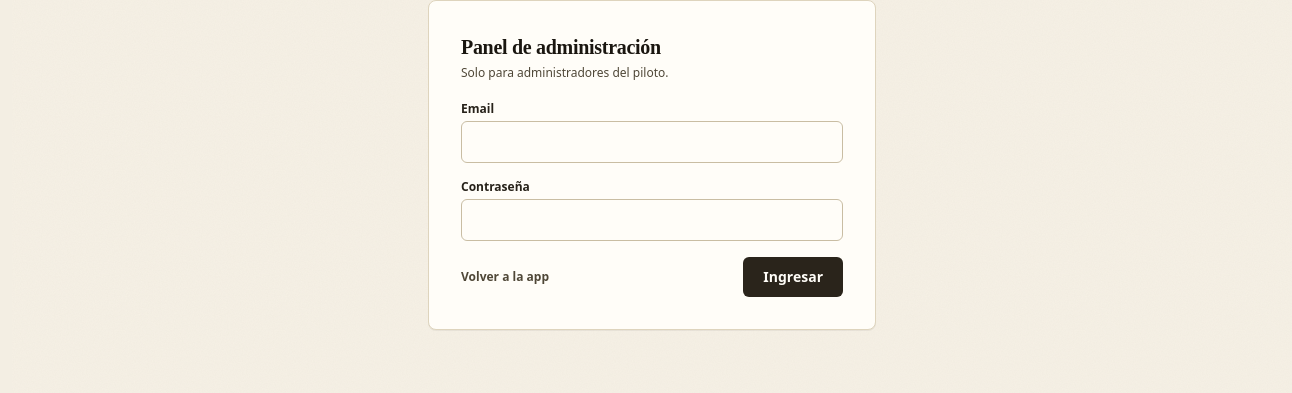
Test case: AdminView — moderación › si falla guardar la decisión avisa y deja el reporte
Type "admin@ejemplo.com" into the field labelled "Email".
click(652, 142); type("admin@ejemplo.com")  # box [461,121,843,163]
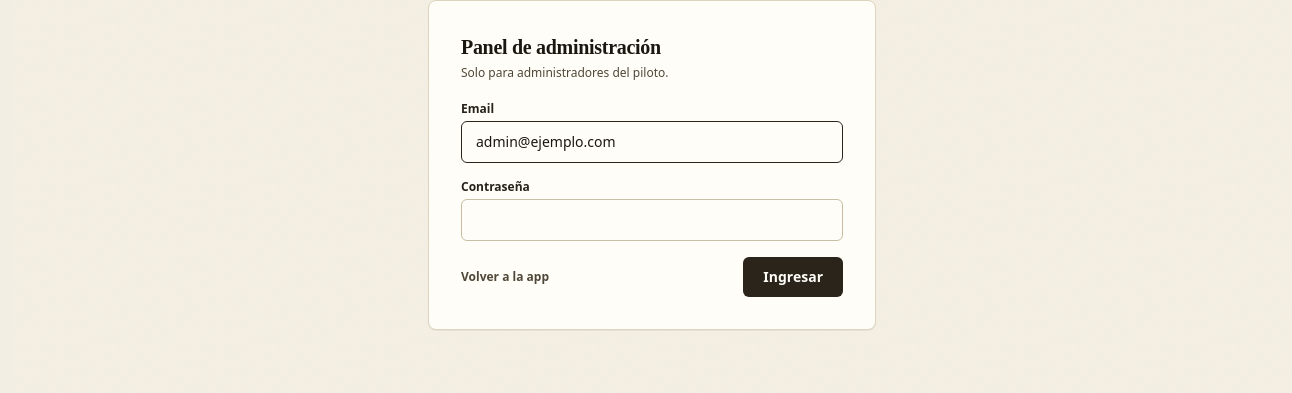
Type "secreta" into the password field labelled "Contraseña".
click(652, 220); type("secreta")  # box [461,199,843,241]
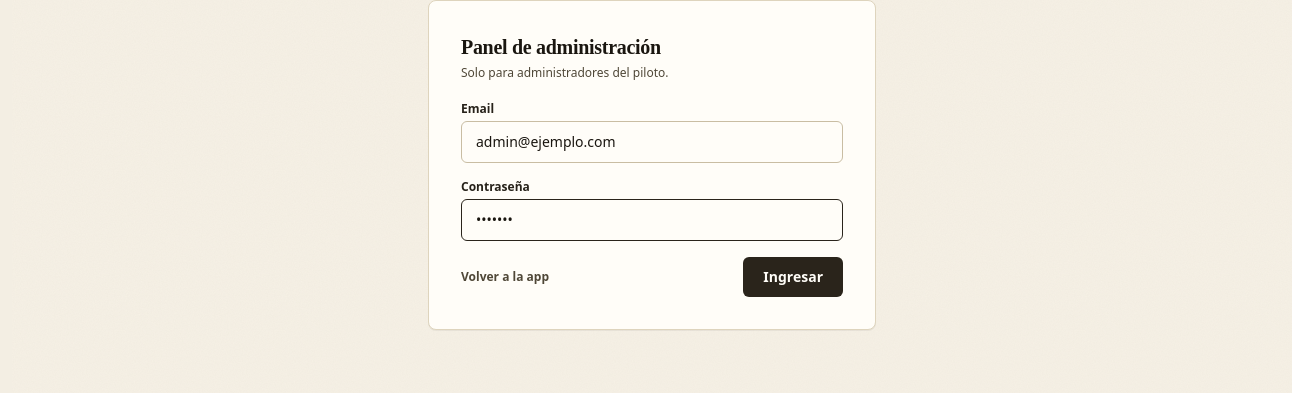
Click the button "Ingresar".
click(793, 277)  # box [743,257,843,297]
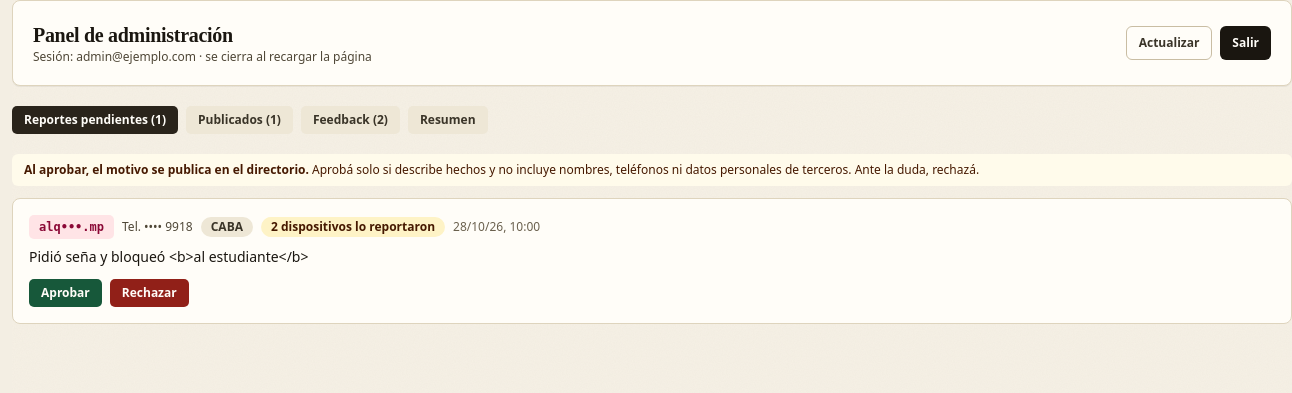
Click the button "Aprobar".
click(65, 293)  # box [29,279,102,307]
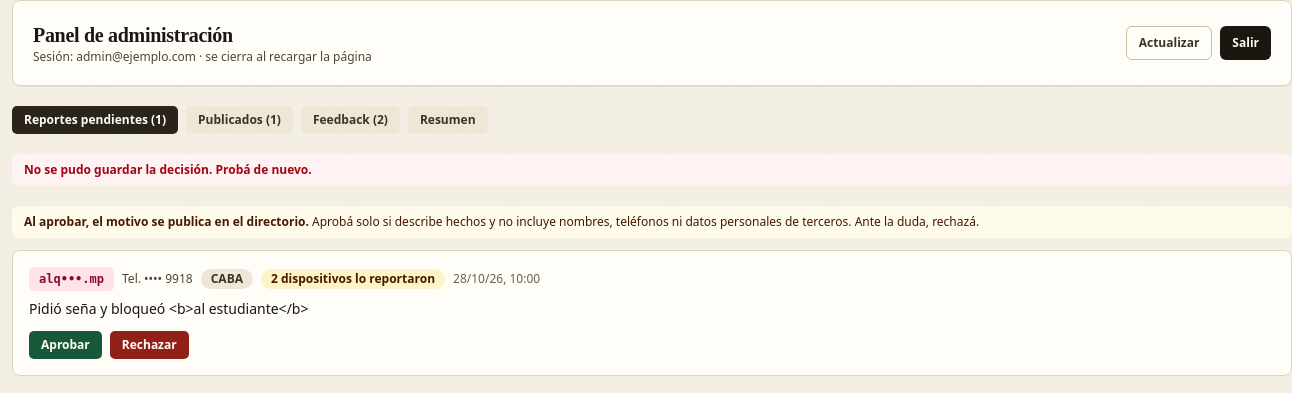
Expected: the text "alq•••.mp" is shown, [29,267,114,291]
Expected: the message shows "No se pudo guardar la decisión", [24,161,312,178]
